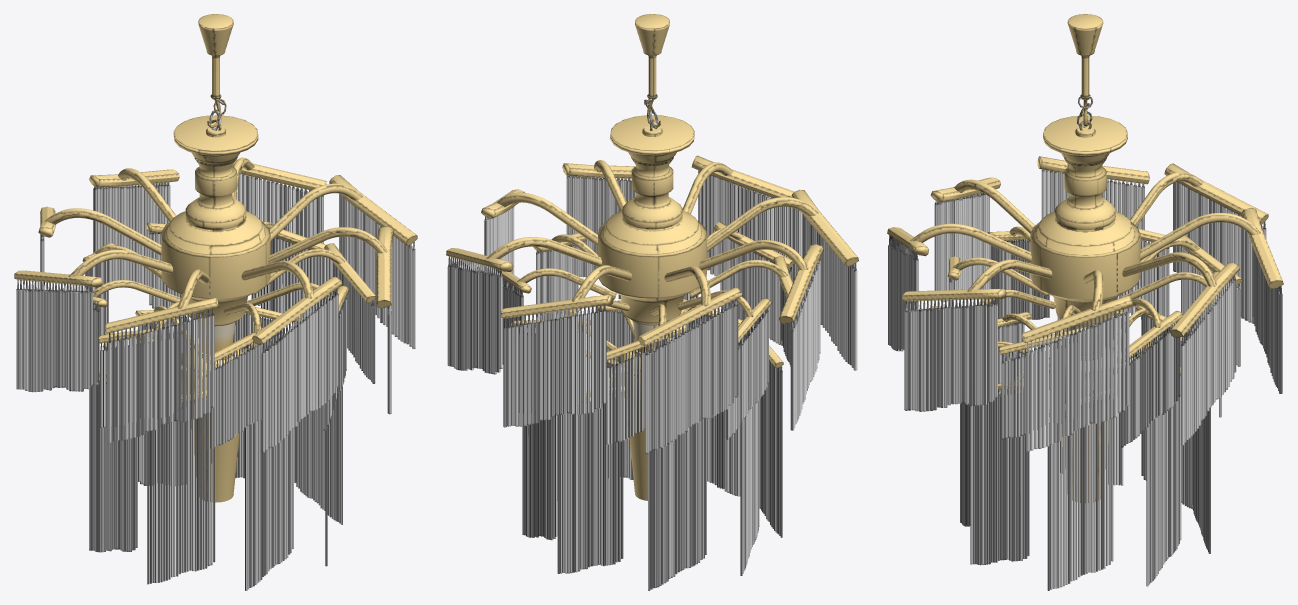
File: chandelier.glb
The picture shows the model from 3 angles, left to right: view 1: azimuth 30°, elevation 25°; view 2: azimuth 150°, elevation 25°; view 3: azimuth 270°, elevation 25°; orthographic projection.
Parts seen in each view (by area): view 1: polySurface560; view 2: polySurface560; view 3: polySurface560.
Boxes of the visible parts, <box> form: polySurface560: <box>14,14,417,590</box>; polySurface560: <box>446,14,858,590</box>; polySurface560: <box>887,14,1283,590</box>.
Bounding box in the file's own units: 0.1274 × 0.183 × 0.1274.
2 materials, 2 textured.
